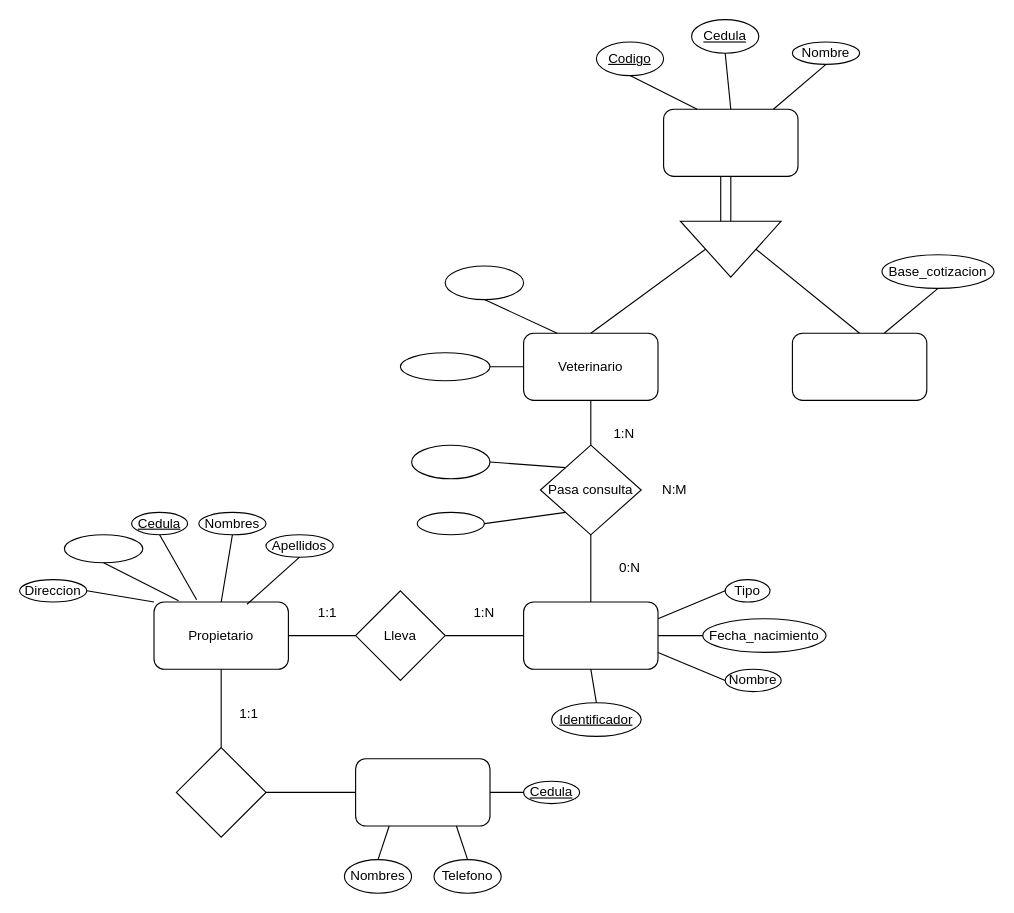
Some shapes in this 1014 by 913 pixel diagram are drawn without their labels. The centre of each missing label's shape, as x and y in pixels:
Auxiliar: the point at 859,366
Diagnostico: the point at 450,461
Especialidad: the point at 444,366
Familiar contacto: the point at 422,792
Fecha: the point at 450,523
Fecha_alta: the point at 484,282
Mascota: the point at 590,635
Personal: the point at 730,142
Telefonos: the point at 103,548
Tiene: the point at 220,791
